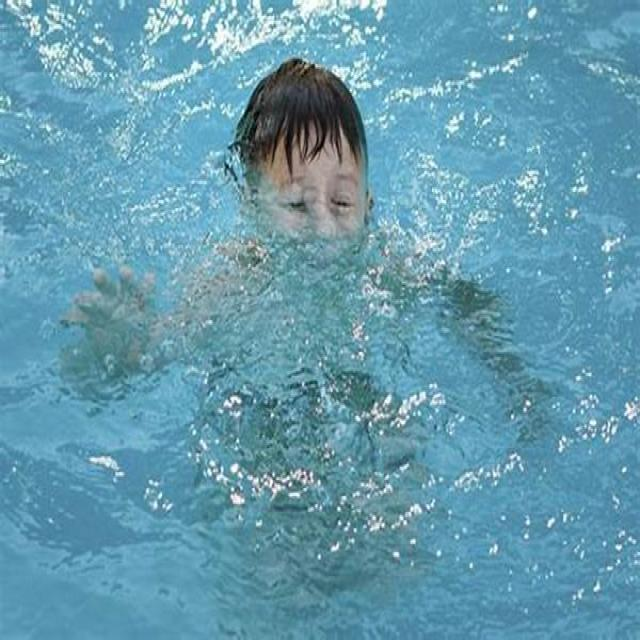drowning: (75, 28, 576, 569)
